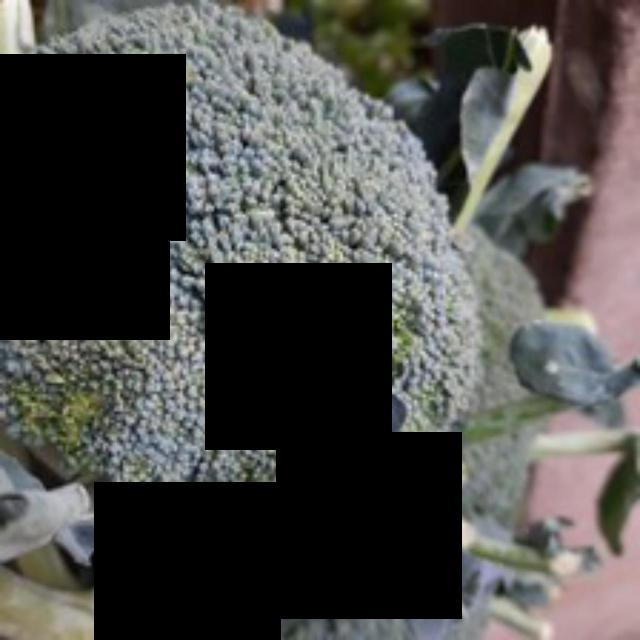broccoli: (0, 0, 481, 540)
